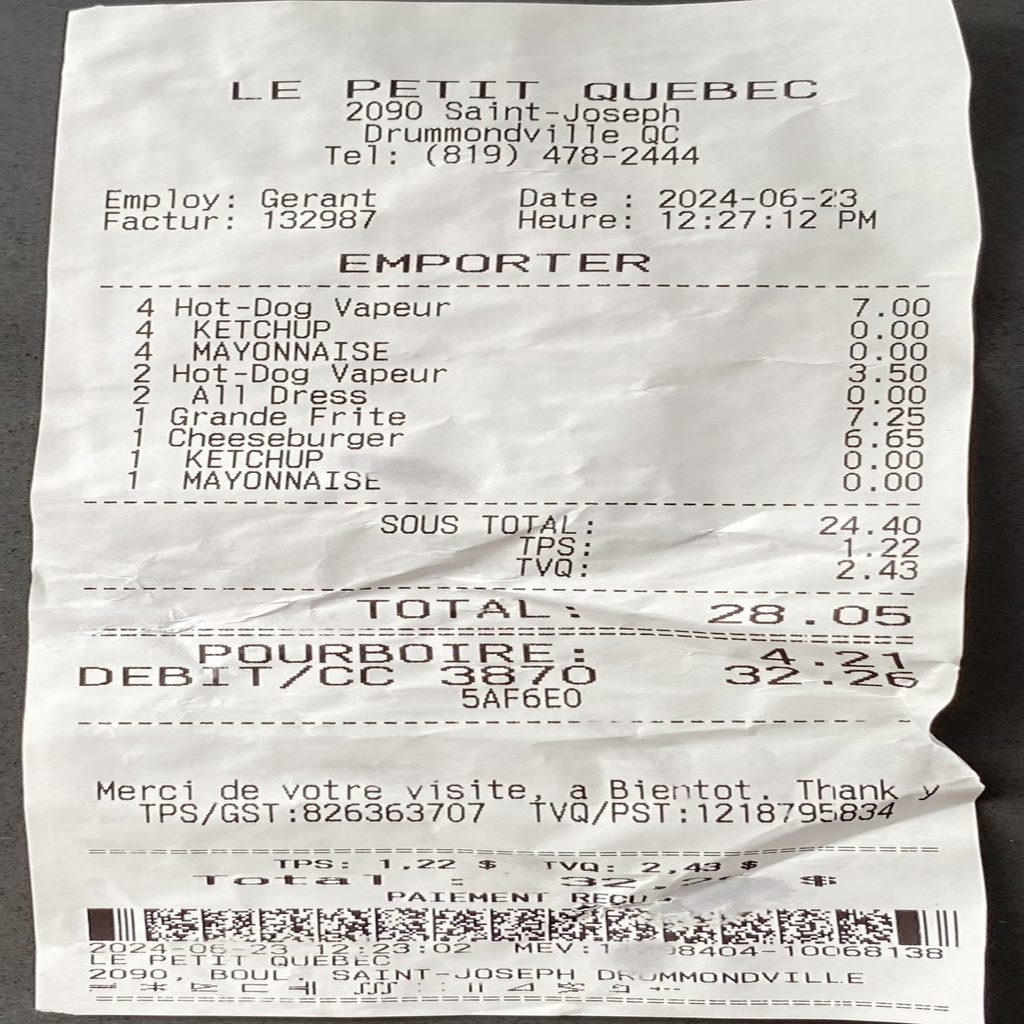recipt: (17, 0, 988, 1022)
